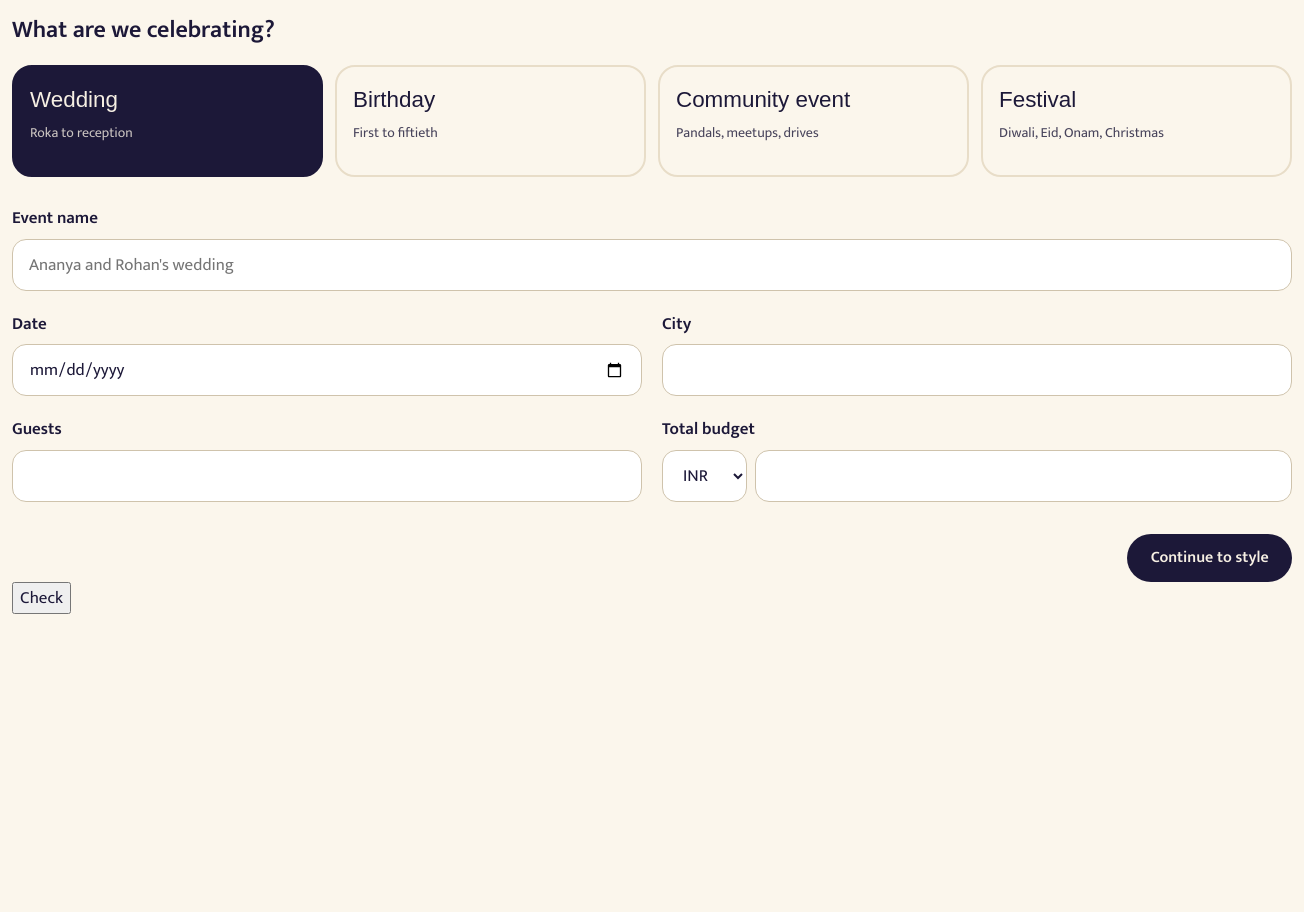
Test: BasicsStep › previews the typed budget in the chosen currency
Type "150000" into the field labelled "Total budget" at (1024, 476), box [755,450,1292,502]
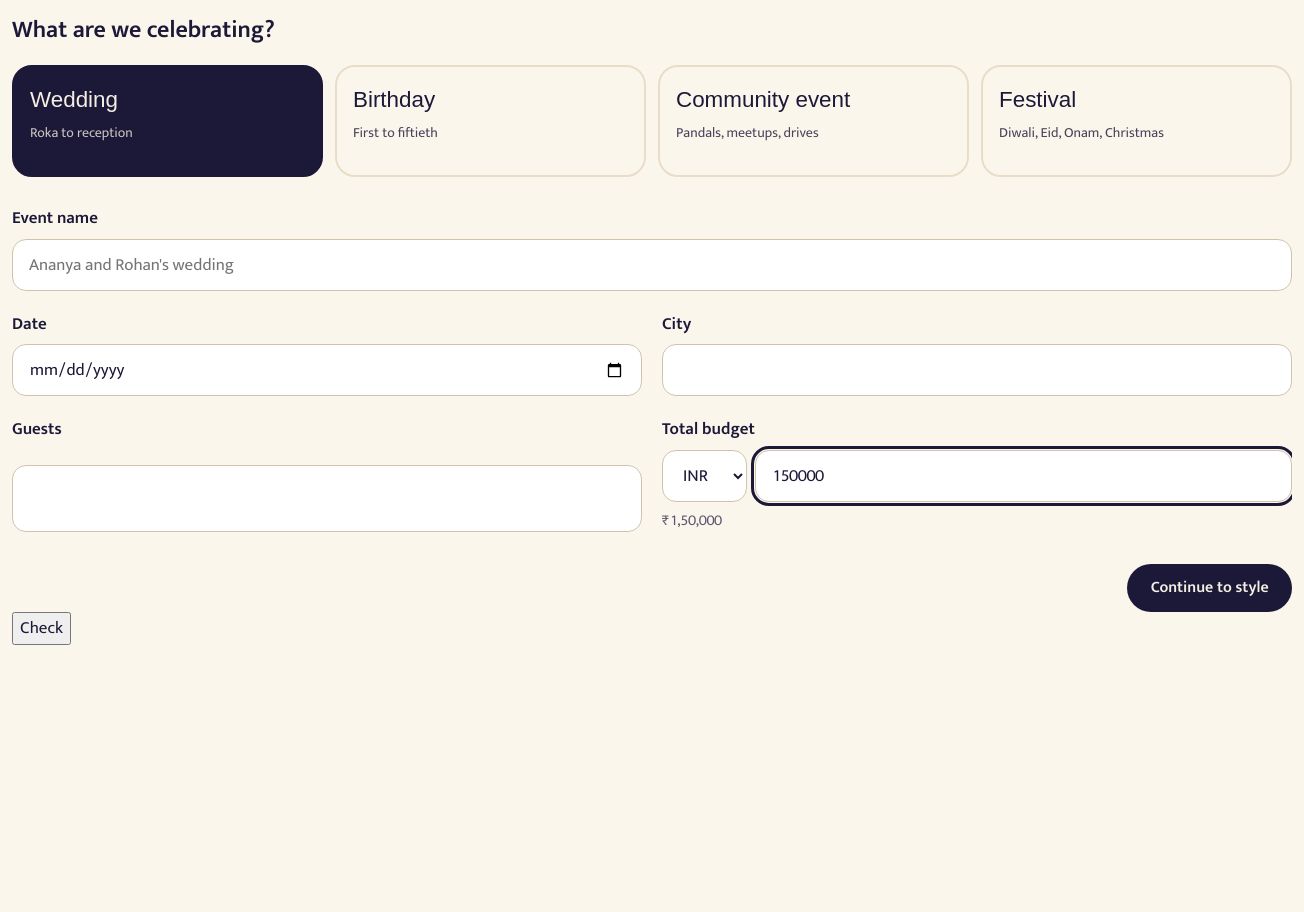
Now the text "₹1,50,000" is shown, box [662,508,722,533]
Select "USD" in the dropdown named "Currency" at (704, 476), box [662,450,747,502]
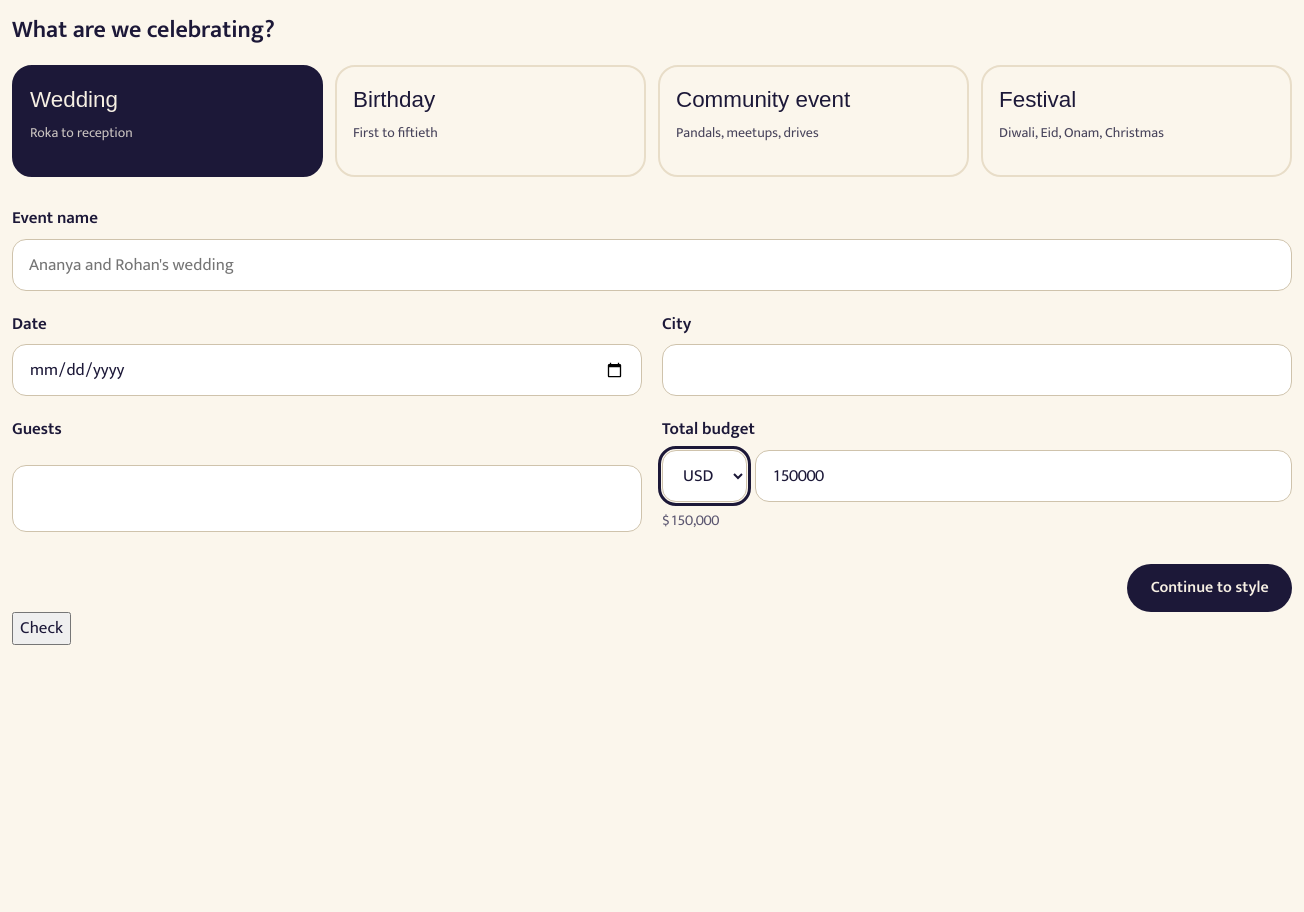
Now the text "$150,000" is shown, box [662,508,719,533]
